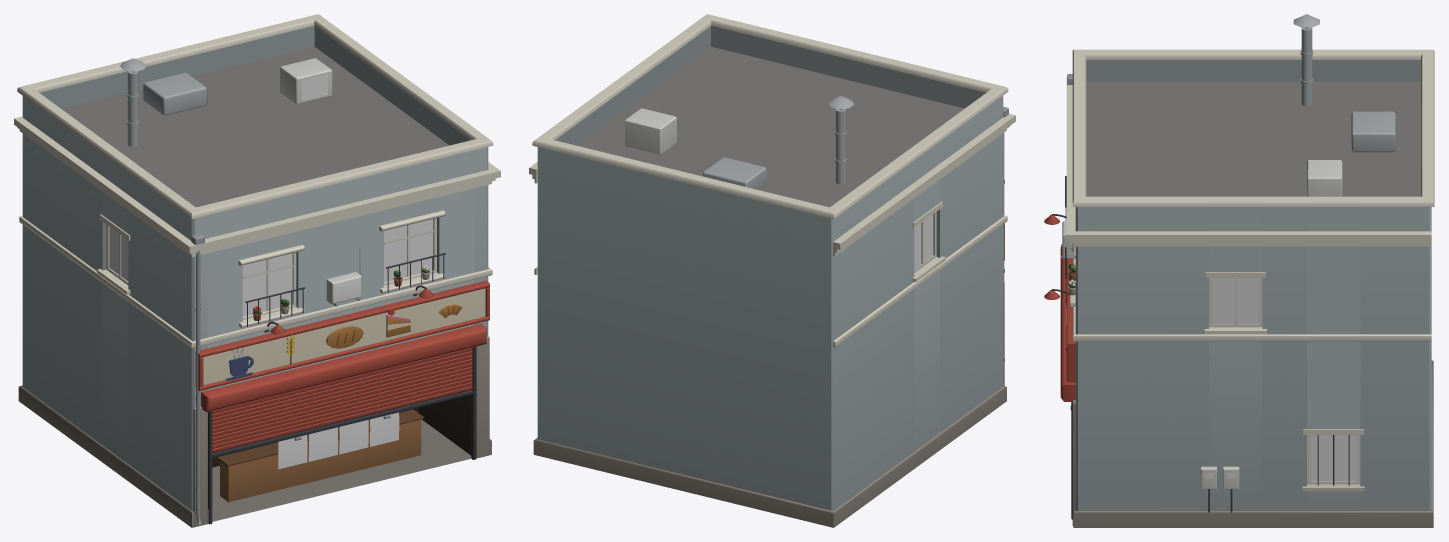
The model's file is ShopShutter.fbx.
3 renders of one model, left to right at view 1: azimuth 30°, elevation 25°; view 2: azimuth 150°, elevation 25°; view 3: azimuth 270°, elevation 25°, orthographic. The views are drawn at different scales.
Parts seen in each view (by area): view 1: ShopShutter; view 2: ShopShutter; view 3: ShopShutter.
Boxes of the visible parts, box(x1,y1,x2,y2) form: ShopShutter: box(14, 14, 500, 527); ShopShutter: box(529, 14, 1015, 527); ShopShutter: box(1044, 14, 1434, 527).
Bounding box in the file's own units: 8.4 × 9.65 × 8.77.
